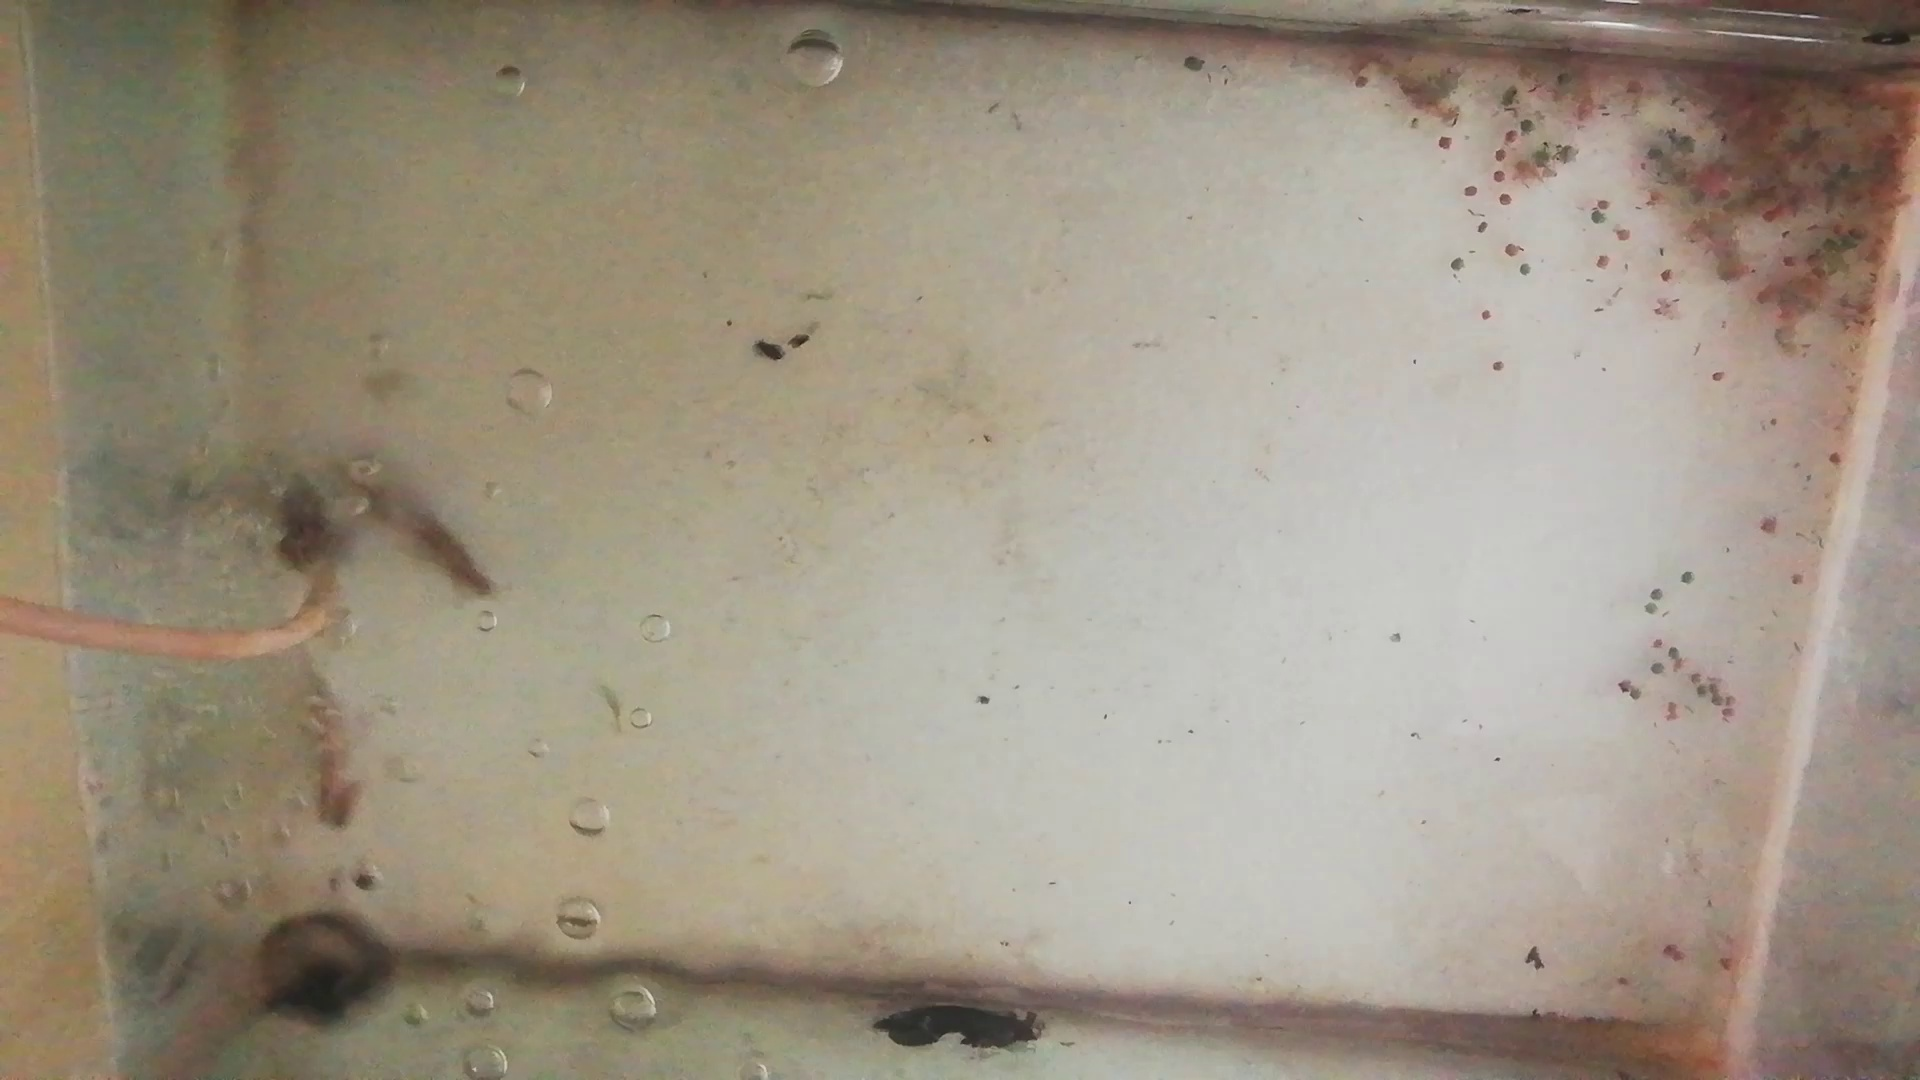fish: (331, 463, 493, 597), (307, 665, 357, 829)
